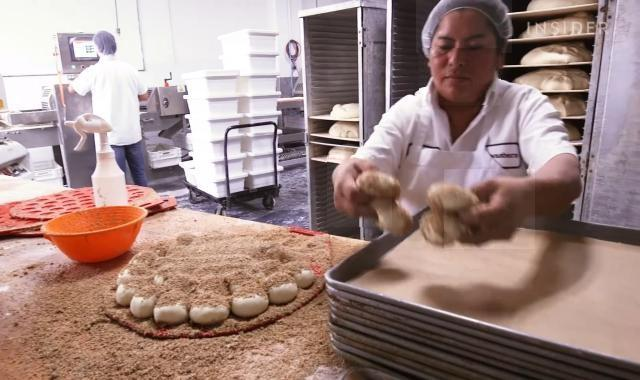gloves: (416, 0, 512, 53), (91, 31, 117, 58)
no_apron: (444, 169, 536, 249), (328, 156, 393, 228)
no_hairnet: (420, 49, 502, 106)
